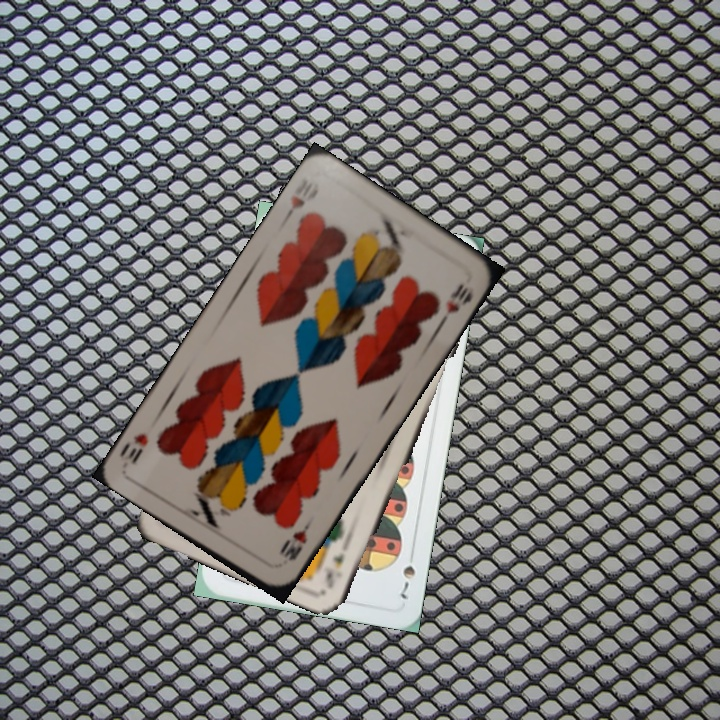EK: (321, 548, 347, 591)
H10: (279, 179, 322, 225), (275, 517, 314, 564)
S7: (396, 561, 418, 602)
